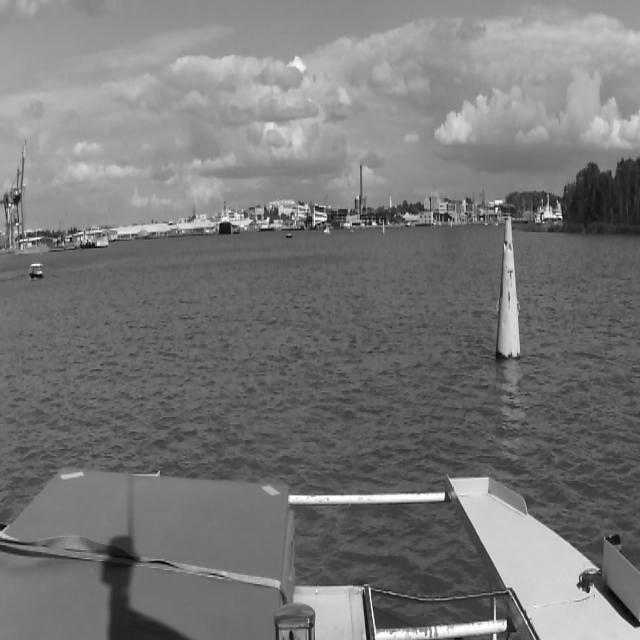buoy: (497, 218, 521, 360), (382, 218, 385, 236)
ship: (215, 200, 233, 236), (31, 261, 43, 279), (285, 234, 293, 239)
